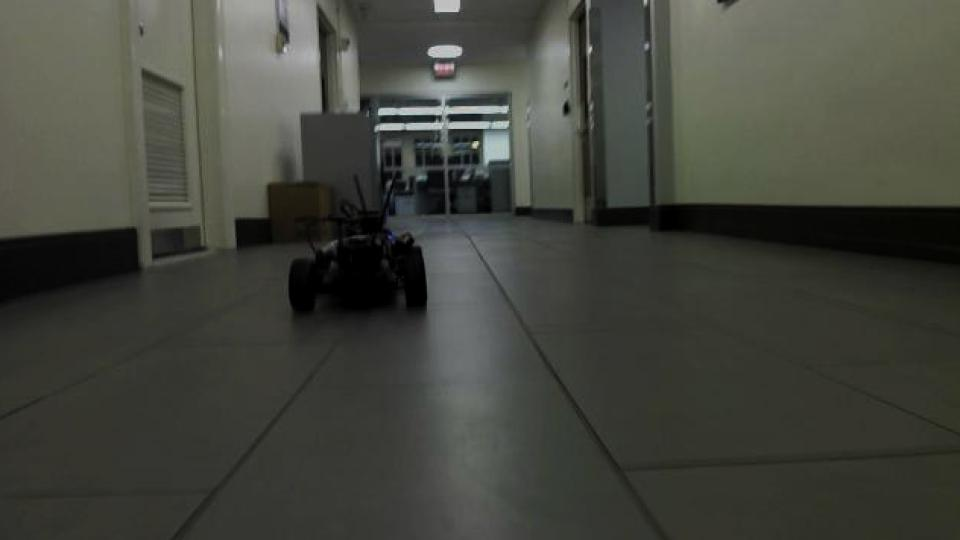car: (282, 172, 430, 316)
